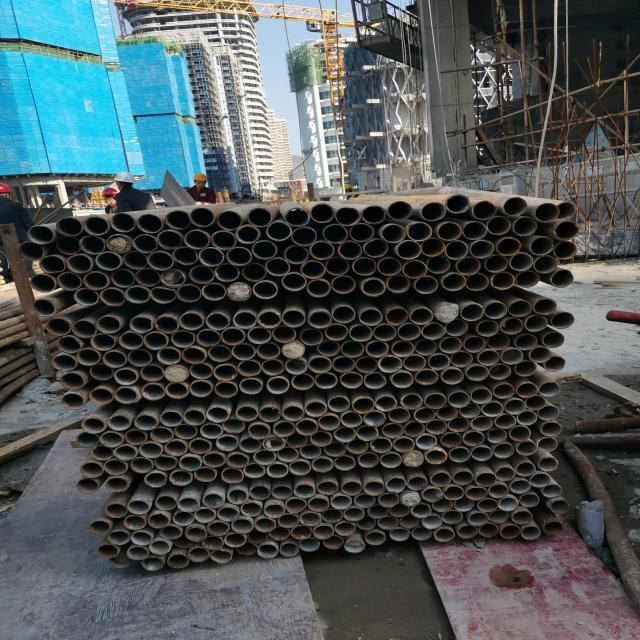pipe: (183, 266, 217, 286), (153, 346, 187, 366), (419, 200, 447, 224), (82, 215, 111, 238), (385, 200, 414, 223), (533, 204, 562, 227), (105, 234, 134, 256), (529, 236, 558, 258), (217, 210, 245, 232), (361, 204, 389, 226), (180, 345, 208, 367), (53, 216, 82, 237), (555, 200, 582, 222), (94, 252, 125, 271), (183, 230, 211, 251), (302, 400, 331, 420), (437, 220, 462, 243), (487, 215, 512, 238), (111, 212, 137, 234), (131, 234, 161, 253), (319, 225, 349, 244), (145, 252, 175, 271), (336, 206, 363, 227), (17, 241, 45, 261), (28, 273, 56, 293), (508, 507, 536, 527), (155, 523, 186, 541), (135, 211, 160, 233), (166, 209, 191, 231), (189, 207, 214, 229), (311, 203, 336, 225), (513, 217, 538, 239), (362, 276, 387, 298), (434, 302, 459, 324), (246, 206, 272, 227), (407, 221, 433, 242), (309, 241, 335, 262), (444, 241, 470, 262), (284, 208, 311, 228), (157, 230, 184, 250), (348, 223, 375, 243), (380, 224, 407, 244), (337, 240, 364, 260), (171, 536, 201, 554), (27, 225, 55, 244), (283, 246, 311, 265), (395, 242, 423, 261), (158, 269, 186, 288), (353, 258, 381, 277), (225, 283, 253, 302), (44, 318, 72, 337), (102, 351, 130, 370), (446, 390, 474, 409), (446, 196, 471, 217), (505, 197, 530, 218), (172, 249, 201, 267), (300, 262, 329, 280), (555, 222, 581, 242), (325, 256, 351, 276), (179, 312, 205, 332), (252, 280, 278, 300), (281, 272, 307, 292), (83, 271, 110, 290), (264, 258, 291, 277), (128, 315, 155, 334), (205, 311, 232, 330), (229, 343, 256, 362), (136, 441, 166, 458), (474, 200, 497, 222), (210, 231, 238, 249), (463, 220, 487, 241), (472, 240, 496, 261), (240, 264, 268, 282), (79, 236, 104, 256), (387, 274, 412, 294), (414, 275, 439, 295), (257, 310, 282, 330), (206, 344, 231, 364), (484, 255, 510, 274), (31, 298, 57, 317), (101, 289, 127, 308), (331, 275, 357, 294), (282, 309, 308, 328), (306, 355, 332, 374), (82, 416, 108, 435), (109, 270, 136, 288), (134, 269, 161, 287), (74, 289, 101, 307), (75, 349, 102, 367), (125, 349, 152, 367), (107, 414, 134, 432), (424, 419, 451, 437), (201, 452, 228, 470), (214, 508, 244, 524), (164, 438, 192, 455), (534, 255, 559, 274), (441, 272, 466, 291), (155, 315, 180, 334), (104, 501, 129, 520), (291, 227, 317, 245), (67, 256, 93, 274), (57, 272, 83, 290), (232, 311, 258, 329), (138, 366, 164, 384), (163, 366, 189, 384), (237, 359, 263, 377), (476, 350, 502, 368), (114, 387, 140, 405), (285, 432, 311, 450), (469, 416, 495, 434), (183, 525, 209, 543), (87, 366, 116, 382), (111, 370, 140, 386), (122, 546, 151, 562), (340, 479, 363, 499), (466, 483, 489, 503), (54, 238, 81, 255), (495, 239, 522, 256), (193, 329, 220, 346), (234, 405, 261, 422), (188, 439, 215, 456), (79, 462, 106, 479), (128, 458, 155, 475), (537, 421, 564, 438), (500, 316, 524, 335), (293, 483, 317, 502), (148, 539, 172, 558), (267, 223, 292, 241), (123, 252, 148, 270), (200, 249, 225, 267), (377, 258, 402, 276), (306, 279, 331, 297), (332, 305, 357, 323), (384, 308, 409, 326), (508, 300, 533, 318), (56, 336, 81, 354), (256, 343, 281, 361), (214, 364, 239, 382), (378, 357, 403, 375), (238, 377, 263, 395), (77, 433, 102, 451), (76, 476, 101, 494), (368, 436, 393, 454), (421, 486, 446, 504), (269, 422, 297, 438), (360, 410, 388, 426), (275, 446, 303, 462), (228, 518, 256, 534), (151, 287, 177, 304), (516, 272, 542, 289), (51, 354, 77, 371), (192, 508, 218, 525), (453, 470, 475, 490), (160, 410, 183, 429), (503, 397, 526, 416), (171, 425, 200, 440), (246, 530, 275, 545), (236, 227, 263, 243), (201, 284, 225, 302), (359, 308, 383, 326), (460, 303, 484, 321), (281, 341, 305, 359), (266, 376, 290, 394), (165, 382, 189, 400), (141, 383, 165, 401), (353, 396, 377, 414), (288, 457, 312, 475), (255, 517, 279, 535), (268, 526, 295, 542), (325, 324, 349, 342), (365, 241, 390, 258), (373, 324, 398, 341), (422, 323, 447, 340), (340, 341, 365, 358), (499, 348, 524, 365), (213, 382, 238, 399), (188, 381, 213, 398), (60, 393, 85, 410), (134, 415, 159, 432), (423, 393, 448, 410), (537, 382, 562, 399), (482, 402, 507, 419), (459, 430, 484, 447), (406, 476, 431, 493), (237, 501, 262, 518), (440, 509, 465, 526), (453, 258, 483, 272), (204, 407, 232, 422), (224, 534, 254, 548), (556, 242, 578, 261), (39, 257, 65, 273), (125, 288, 151, 304), (331, 358, 357, 374), (243, 424, 275, 437), (294, 419, 320, 435), (178, 455, 204, 471), (283, 498, 309, 514), (299, 511, 325, 527), (216, 265, 239, 283), (405, 262, 428, 280), (509, 253, 532, 271), (466, 273, 489, 291), (551, 269, 574, 287), (528, 346, 551, 364), (333, 454, 356, 472), (392, 436, 415, 454), (308, 496, 331, 514), (533, 299, 557, 316), (119, 333, 143, 350), (397, 323, 421, 340), (551, 312, 575, 329), (317, 340, 341, 357), (365, 341, 389, 358), (391, 341, 415, 358), (488, 364, 512, 381), (291, 374, 315, 391), (90, 388, 114, 405), (515, 383, 539, 400), (238, 436, 262, 453), (144, 472, 168, 489), (128, 498, 152, 515), (86, 446, 115, 460), (214, 435, 243, 449), (279, 406, 306, 421), (114, 445, 141, 460), (224, 452, 251, 467), (251, 452, 278, 467), (399, 394, 424, 410), (316, 414, 341, 430), (262, 436, 287, 452), (105, 477, 130, 493), (153, 455, 178, 471), (409, 502, 434, 518), (455, 525, 480, 541), (447, 416, 469, 434), (444, 484, 466, 502), (252, 242, 275, 259), (423, 241, 446, 258), (492, 273, 515, 290), (485, 302, 508, 319), (415, 339, 438, 356), (439, 337, 462, 354), (463, 336, 486, 353), (542, 332, 565, 349), (60, 372, 83, 389), (364, 372, 387, 389), (341, 372, 364, 389), (258, 405, 281, 422), (495, 413, 518, 430), (380, 452, 403, 469), (402, 451, 425, 468), (142, 333, 168, 348), (261, 361, 287, 376), (148, 428, 174, 443), (221, 420, 247, 435), (87, 520, 113, 535), (169, 512, 195, 527), (506, 481, 532, 496), (465, 366, 489, 382), (382, 424, 406, 440), (169, 470, 193, 486), (330, 494, 354, 510), (187, 547, 211, 563), (276, 512, 300, 528), (197, 424, 226, 437), (97, 318, 122, 333), (188, 364, 213, 379), (333, 427, 358, 442), (355, 426, 380, 441), (310, 458, 335, 473), (322, 440, 347, 455), (177, 498, 202, 513), (312, 525, 337, 540), (311, 311, 333, 328), (446, 319, 468, 336), (515, 361, 537, 378), (516, 410, 538, 427), (194, 466, 216, 483), (203, 492, 225, 509), (272, 484, 294, 501), (349, 326, 372, 342), (487, 334, 510, 350), (441, 369, 464, 385), (415, 369, 438, 385), (315, 373, 338, 389), (328, 395, 351, 411), (472, 389, 495, 405), (425, 450, 448, 466), (449, 447, 472, 463), (490, 509, 513, 525), (316, 480, 339, 496), (123, 517, 149, 531), (342, 508, 368, 522), (366, 505, 392, 519), (227, 250, 251, 265), (220, 328, 244, 343), (272, 327, 296, 342), (101, 431, 125, 446), (403, 422, 427, 437), (105, 461, 129, 476), (220, 469, 244, 484), (152, 496, 176, 511), (226, 488, 250, 503), (166, 554, 190, 569), (388, 503, 412, 518), (468, 512, 492, 527), (179, 286, 200, 303), (73, 320, 94, 337), (391, 371, 412, 388), (310, 430, 331, 447), (431, 472, 452, 489), (401, 492, 422, 509), (257, 542, 278, 559), (427, 259, 449, 275), (410, 308, 432, 324), (356, 358, 378, 374), (428, 355, 450, 371), (544, 356, 566, 372), (184, 411, 206, 427), (538, 405, 560, 421), (249, 486, 271, 502), (398, 515, 420, 531), (346, 440, 371, 454), (107, 555, 132, 569), (139, 557, 164, 571), (452, 498, 477, 512), (515, 335, 538, 350), (285, 359, 308, 374), (403, 355, 426, 370), (340, 412, 363, 427), (437, 405, 460, 420), (459, 404, 482, 419), (357, 453, 380, 468), (488, 429, 511, 444), (508, 427, 531, 442), (470, 447, 493, 462), (354, 494, 377, 509), (364, 531, 387, 546), (386, 477, 406, 494), (378, 492, 398, 509), (490, 484, 510, 501), (171, 332, 197, 345), (386, 410, 412, 423), (300, 329, 321, 345), (538, 437, 559, 453), (364, 480, 385, 496), (495, 466, 516, 482), (279, 542, 300, 558), (377, 518, 401, 532), (432, 499, 456, 513), (477, 321, 499, 336), (376, 397, 398, 412), (243, 464, 265, 479), (266, 463, 288, 478), (493, 443, 515, 458), (148, 514, 170, 529), (202, 535, 224, 550), (211, 549, 233, 564), (291, 526, 313, 541), (335, 521, 357, 536), (434, 528, 456, 543), (541, 484, 563, 499), (544, 521, 566, 536), (500, 524, 522, 539), (520, 526, 542, 541), (124, 431, 149, 444), (411, 408, 436, 421), (320, 509, 343, 523), (356, 517, 379, 531), (388, 528, 411, 542), (452, 352, 472, 368), (415, 433, 435, 449), (550, 499, 570, 515), (249, 328, 270, 343), (526, 316, 547, 331), (516, 441, 537, 456), (516, 462, 537, 477), (90, 336, 114, 349), (523, 397, 547, 410), (106, 531, 130, 544), (263, 503, 285, 517), (494, 385, 514, 400), (538, 457, 558, 472), (477, 498, 500, 511), (478, 524, 501, 537), (475, 473, 496, 487), (98, 544, 119, 558), (344, 539, 365, 553), (234, 543, 258, 555), (411, 527, 433, 540), (422, 516, 444, 529), (498, 497, 520, 510), (530, 474, 550, 488), (298, 445, 321, 457), (517, 494, 540, 506), (299, 539, 320, 552), (325, 536, 344, 550), (443, 434, 463, 447)
